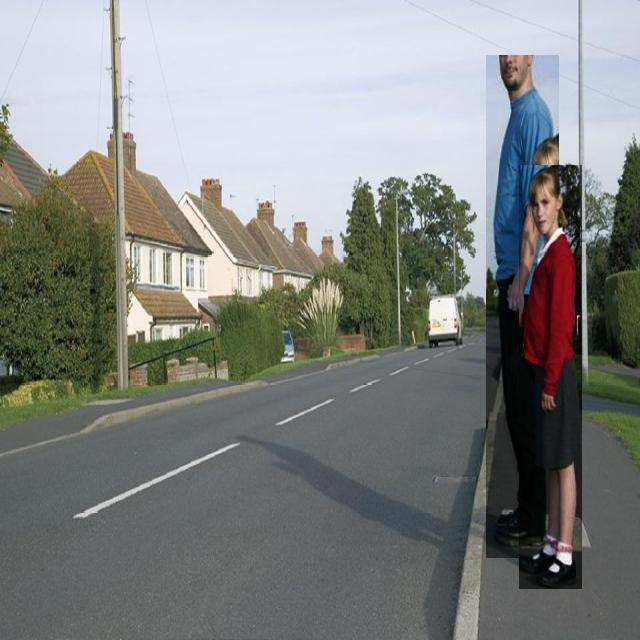without scooter: (486, 56, 559, 558), (519, 165, 582, 589)
